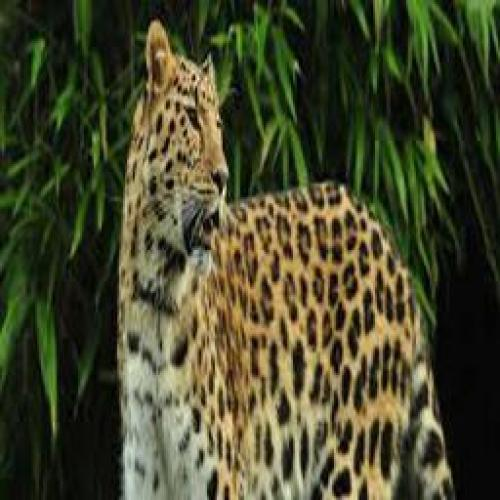amur_leopard-endangered: (108, 20, 461, 500)
